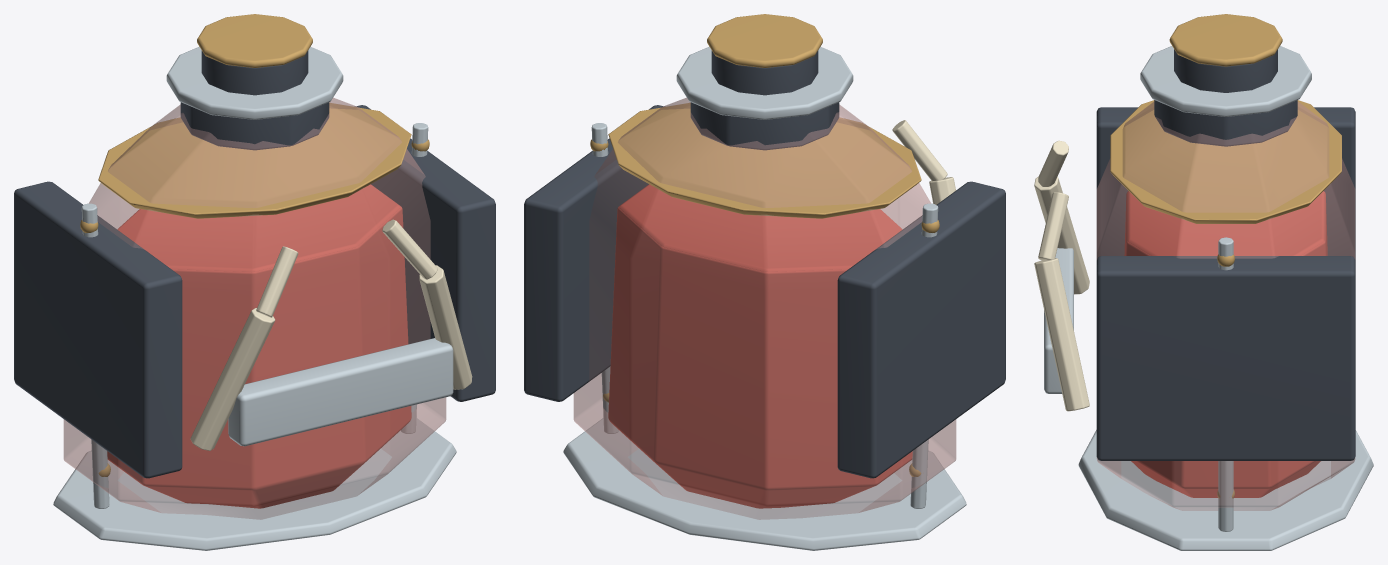
Rendered from SM_Flask_Berserker.fbx.
The picture shows the model from 3 angles, left to right: view 1: azimuth 30°, elevation 25°; view 2: azimuth 150°, elevation 25°; view 3: azimuth 270°, elevation 25°; orthographic projection. The views are drawn at different scales.
Visible parts, largest first — view 1: glass_CutVessel, liquid_ContainedEssence, dark_Brace, gold_ShoulderRim, metal_BaseRing, dark_Brace.001, metal_WarBelt, liquid_Meniscus, metal_MouthLip, gold_CapInset, dark_NeckSleeve, ivory_Tusk (+6 smaller); view 2: glass_CutVessel, liquid_ContainedEssence, dark_Brace, gold_ShoulderRim, dark_Brace.001, metal_BaseRing, liquid_Meniscus, metal_MouthLip, gold_CapInset, dark_NeckSleeve, dark_SealedStopper, metal_CradleRail (+2 smaller); view 3: dark_Brace.001, glass_CutVessel, gold_ShoulderRim, metal_BaseRing, liquid_Meniscus, dark_Brace, metal_MouthLip, liquid_ContainedEssence, gold_CapInset, dark_NeckSleeve, ivory_Tusk.001, dark_SealedStopper (+5 smaller).
Boxes of the visible parts, <box> form: glass_CutVessel: <box>63,97,446,519</box>; liquid_ContainedEssence: <box>107,206,411,508</box>; dark_Brace: <box>14,181,182,478</box>; gold_ShoulderRim: <box>98,103,411,218</box>; metal_BaseRing: <box>53,418,456,550</box>; dark_Brace.001: <box>355,105,495,401</box>; metal_WarBelt: <box>228,338,453,446</box>; liquid_Meniscus: <box>117,184,400,271</box>; metal_MouthLip: <box>166,46,343,119</box>; gold_CapInset: <box>197,14,312,67</box>; dark_NeckSleeve: <box>180,102,329,150</box>; ivory_Tusk: <box>190,308,275,450</box>; glass_CutVessel: <box>573,97,956,519</box>; liquid_ContainedEssence: <box>608,206,912,508</box>; dark_Brace: <box>837,181,1005,478</box>; gold_ShoulderRim: <box>608,103,921,218</box>; dark_Brace.001: <box>524,105,664,401</box>; metal_BaseRing: <box>563,418,966,550</box>; liquid_Meniscus: <box>619,184,902,271</box>; metal_MouthLip: <box>676,46,853,119</box>; gold_CapInset: <box>707,14,822,67</box>; dark_NeckSleeve: <box>690,102,839,150</box>; dark_SealedStopper: <box>711,50,818,95</box>; metal_CradleRail: <box>910,203,938,508</box>; dark_Brace.001: <box>1096,256,1355,460</box>; glass_CutVessel: <box>1096,101,1355,510</box>; gold_ShoulderRim: <box>1110,100,1341,223</box>; metal_BaseRing: <box>1078,430,1373,550</box>; liquid_Meniscus: <box>1127,191,1324,255</box>; dark_Brace: <box>1096,107,1355,259</box>; metal_MouthLip: <box>1140,46,1311,116</box>; liquid_ContainedEssence: <box>1124,192,1327,497</box>; gold_CapInset: <box>1169,14,1282,66</box>; dark_NeckSleeve: <box>1154,100,1297,146</box>; ivory_Tusk.001: <box>1034,258,1089,411</box>; dark_SealedStopper: <box>1174,49,1277,92</box>.
Size of the model in its own units: 40.09 by 48.5 by 33.93.
